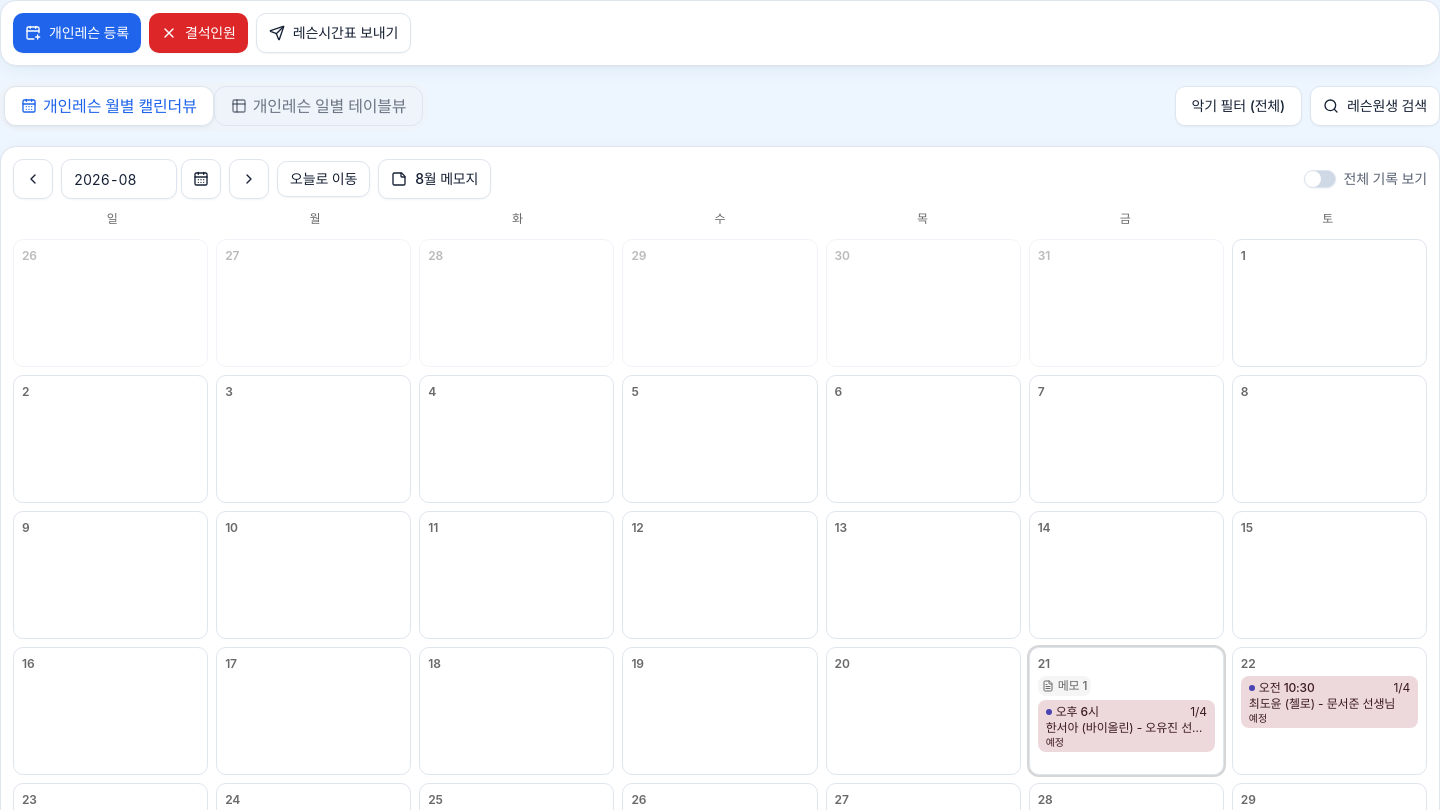
Scenario: 개인레슨 달력 일정 표시 (명세 3.3) › 악기를 선택하면 달력과 출석 확인에 해당 악기만 표시한다
Click the button "악기 필터 (전체)" at (1238, 106), box x1=1175 y1=86 x2=1302 y2=126
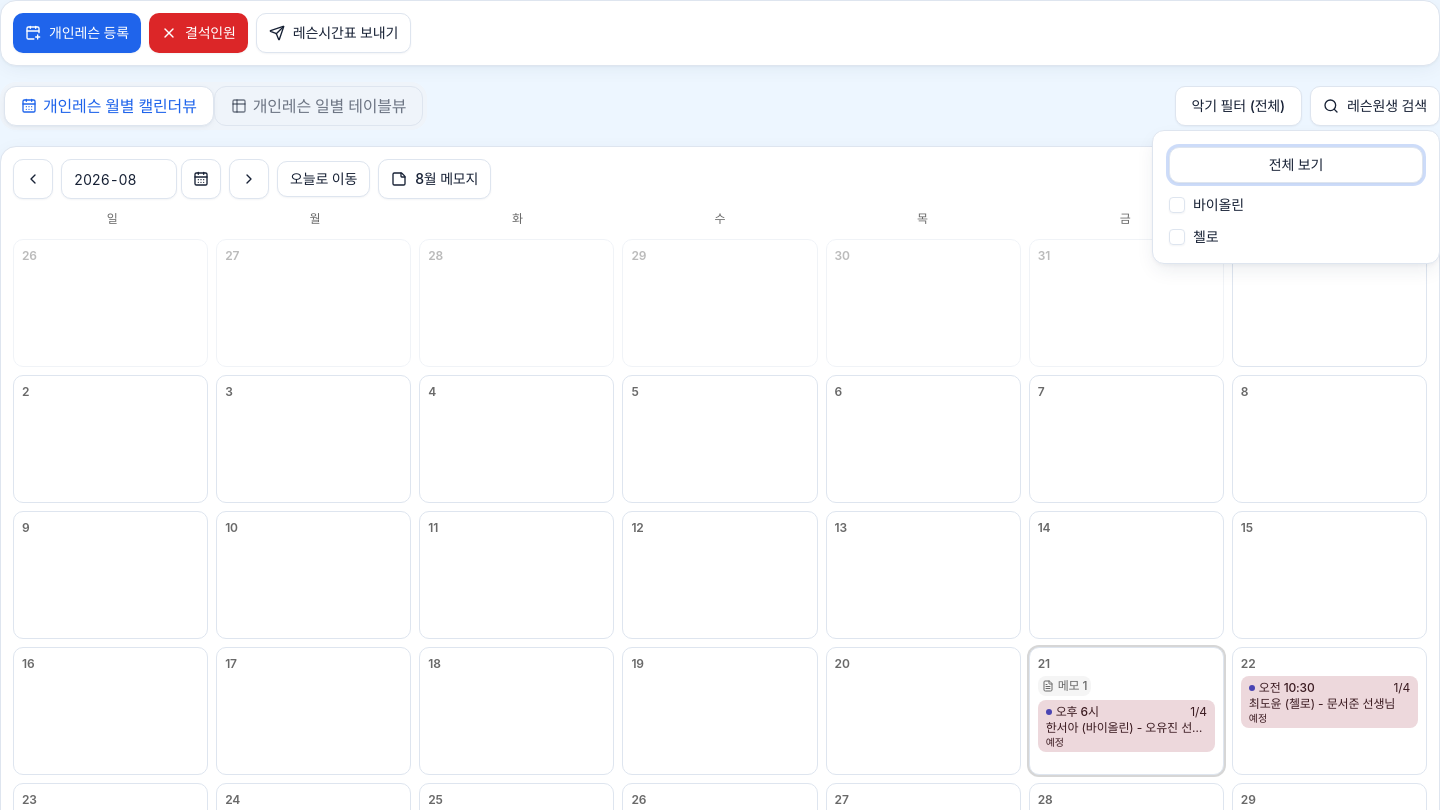
Click the 1st checkbox named "바이올린" at (1177, 205), box x1=1169 y1=197 x2=1185 y2=213
(page scrolled)
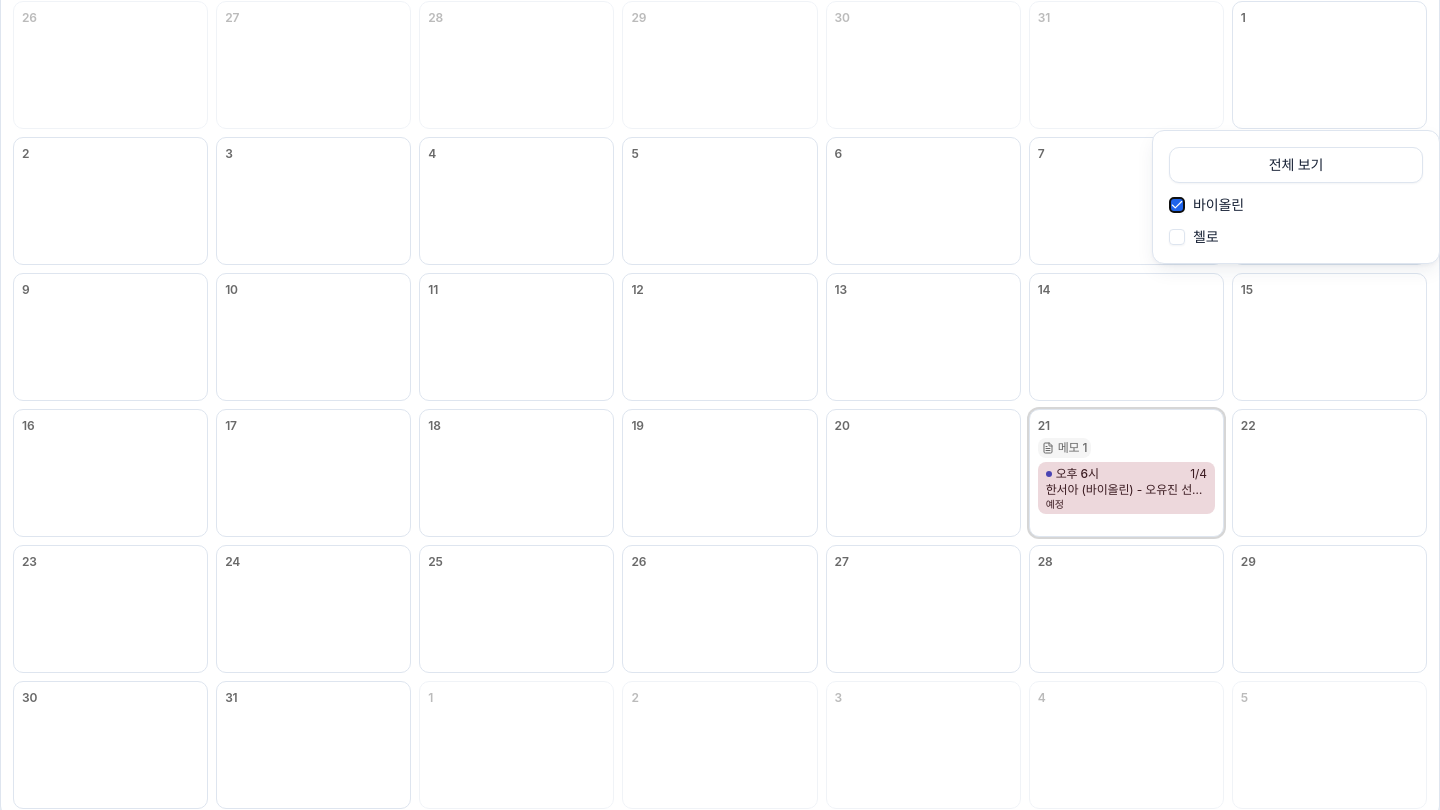
expect the table named "2026년 8월 개인레슨 캘린더" shows "한서아 (바이올린)": met, box x1=1046 y1=482 x2=1214 y2=497
expect the table named "2026년 8월 개인레슨 캘린더" no longer shows "최도윤 (첼로)": met
Press Escape
(page scrolled)
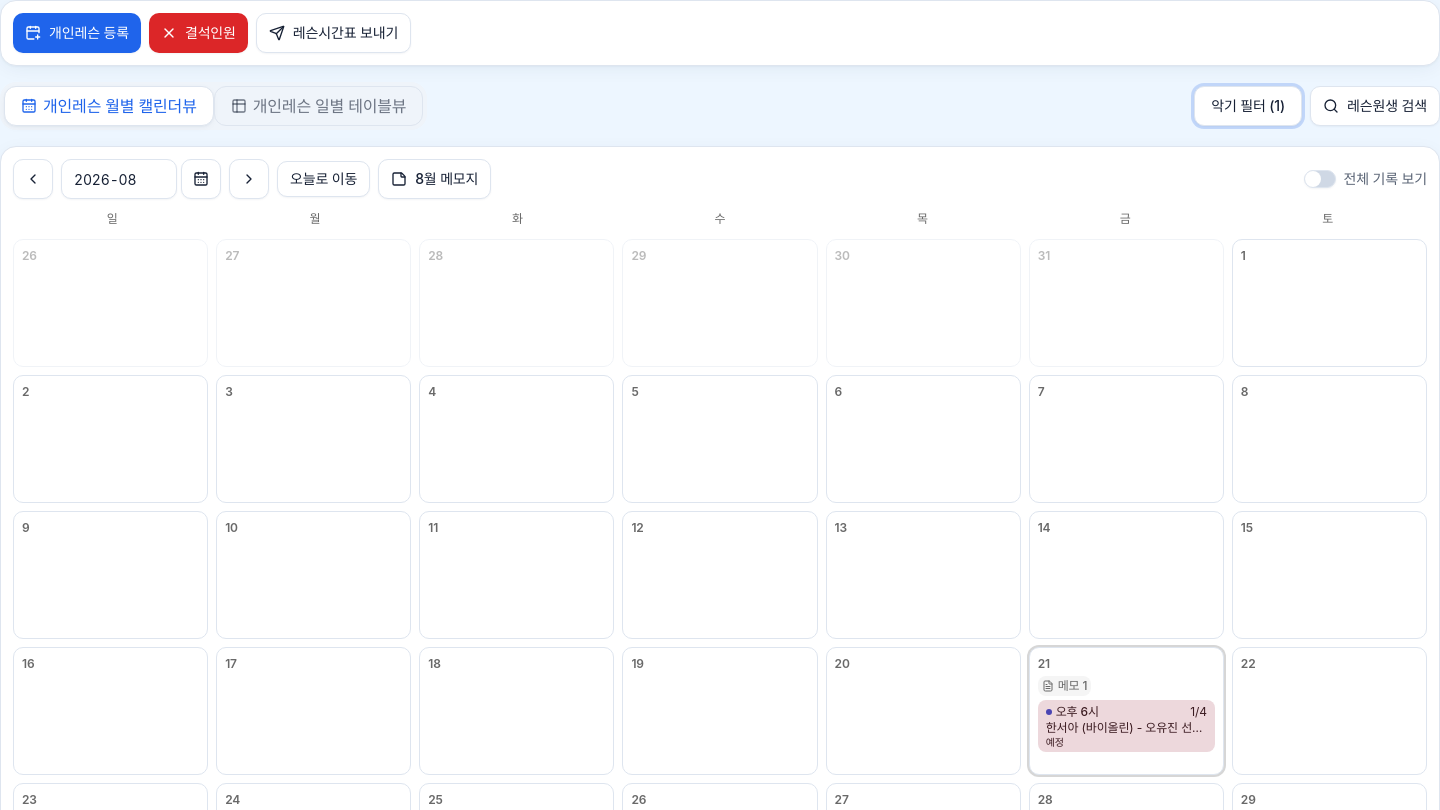
Click the cell "21 메모 1 오후 6시 1/4 한서아 (바이올린) - 오유진 선생님 예정" at (1126, 711), box x1=1029 y1=647 x2=1224 y2=775
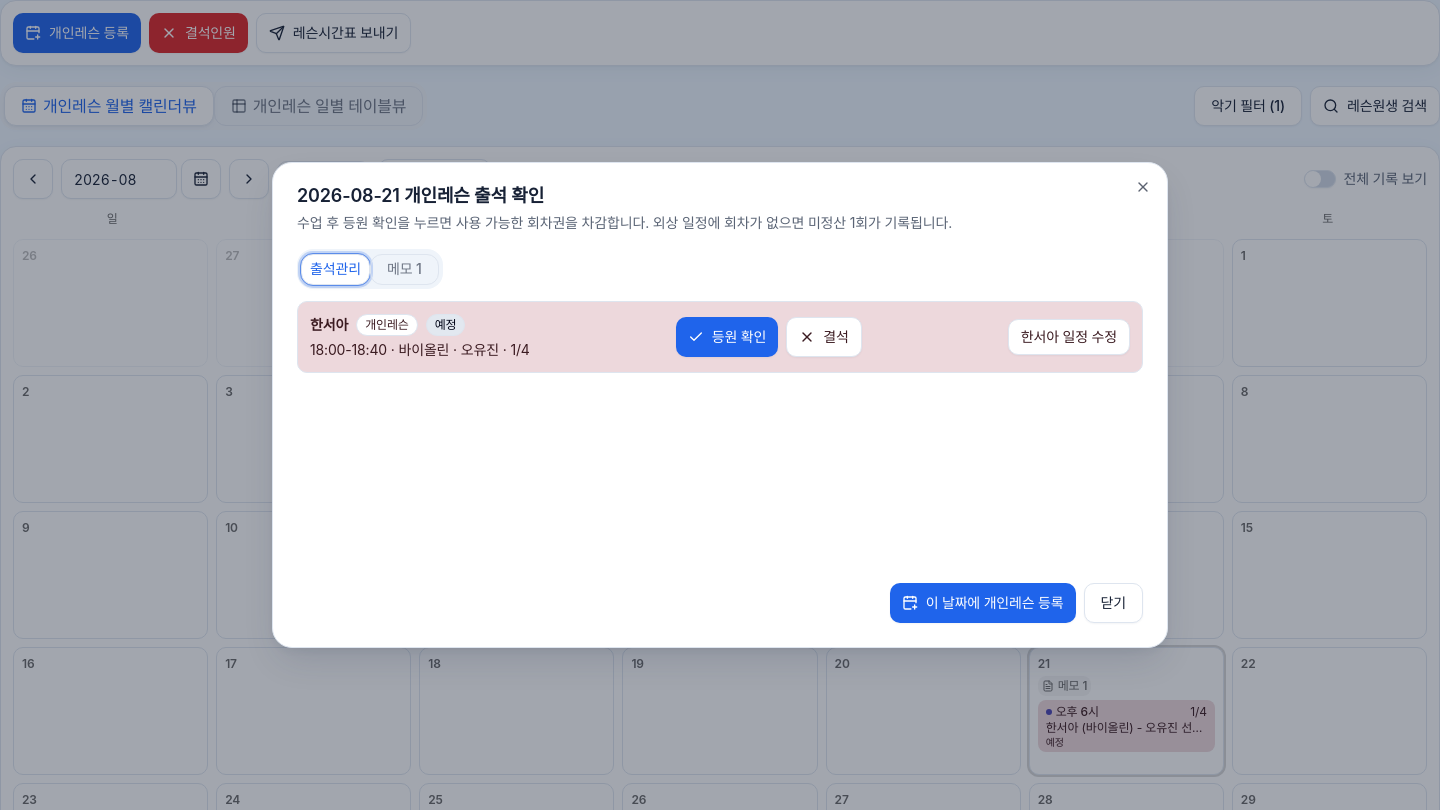
expect the text "최도윤" is not shown: met
expect the text "한서아" is shown: met, box x1=310 y1=315 x2=348 y2=335
